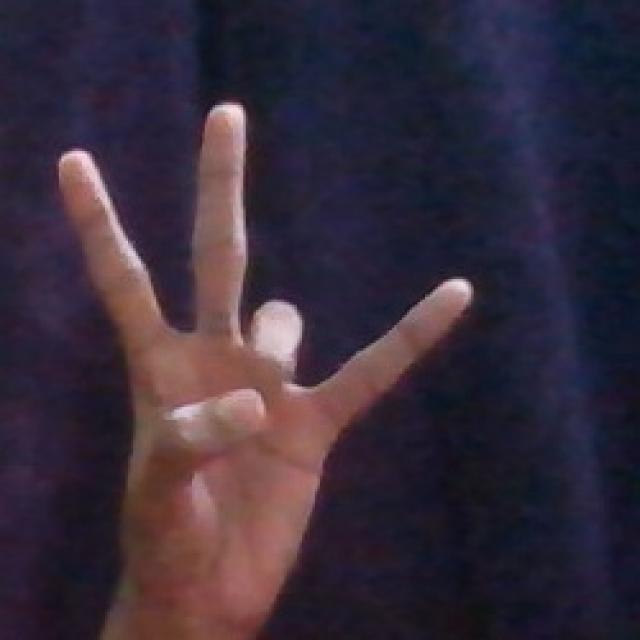Numeric-7: (44, 87, 479, 609)
